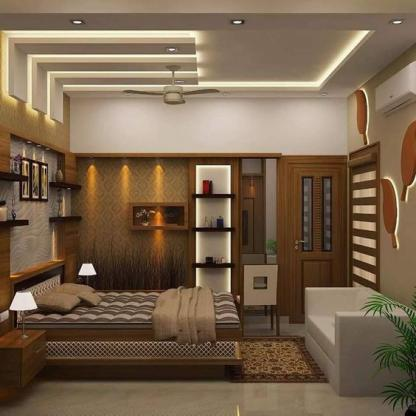Gypsum Board: (0, 0, 416, 127)
